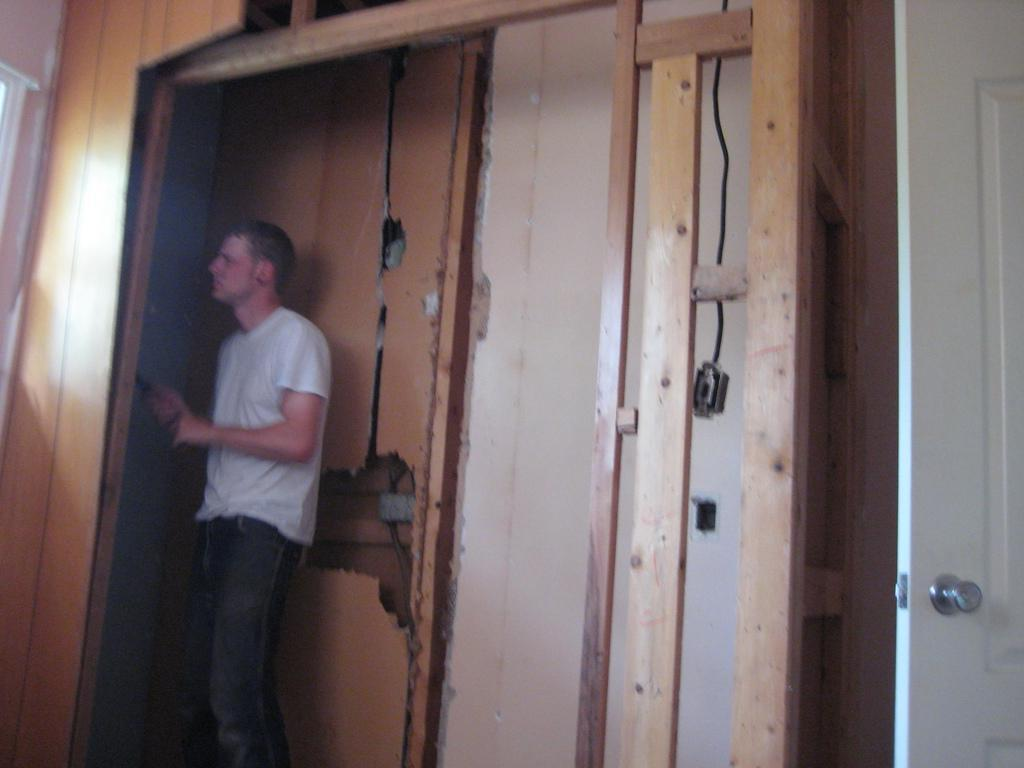door: (899, 3, 1023, 766)
handle: (932, 568, 986, 618)
